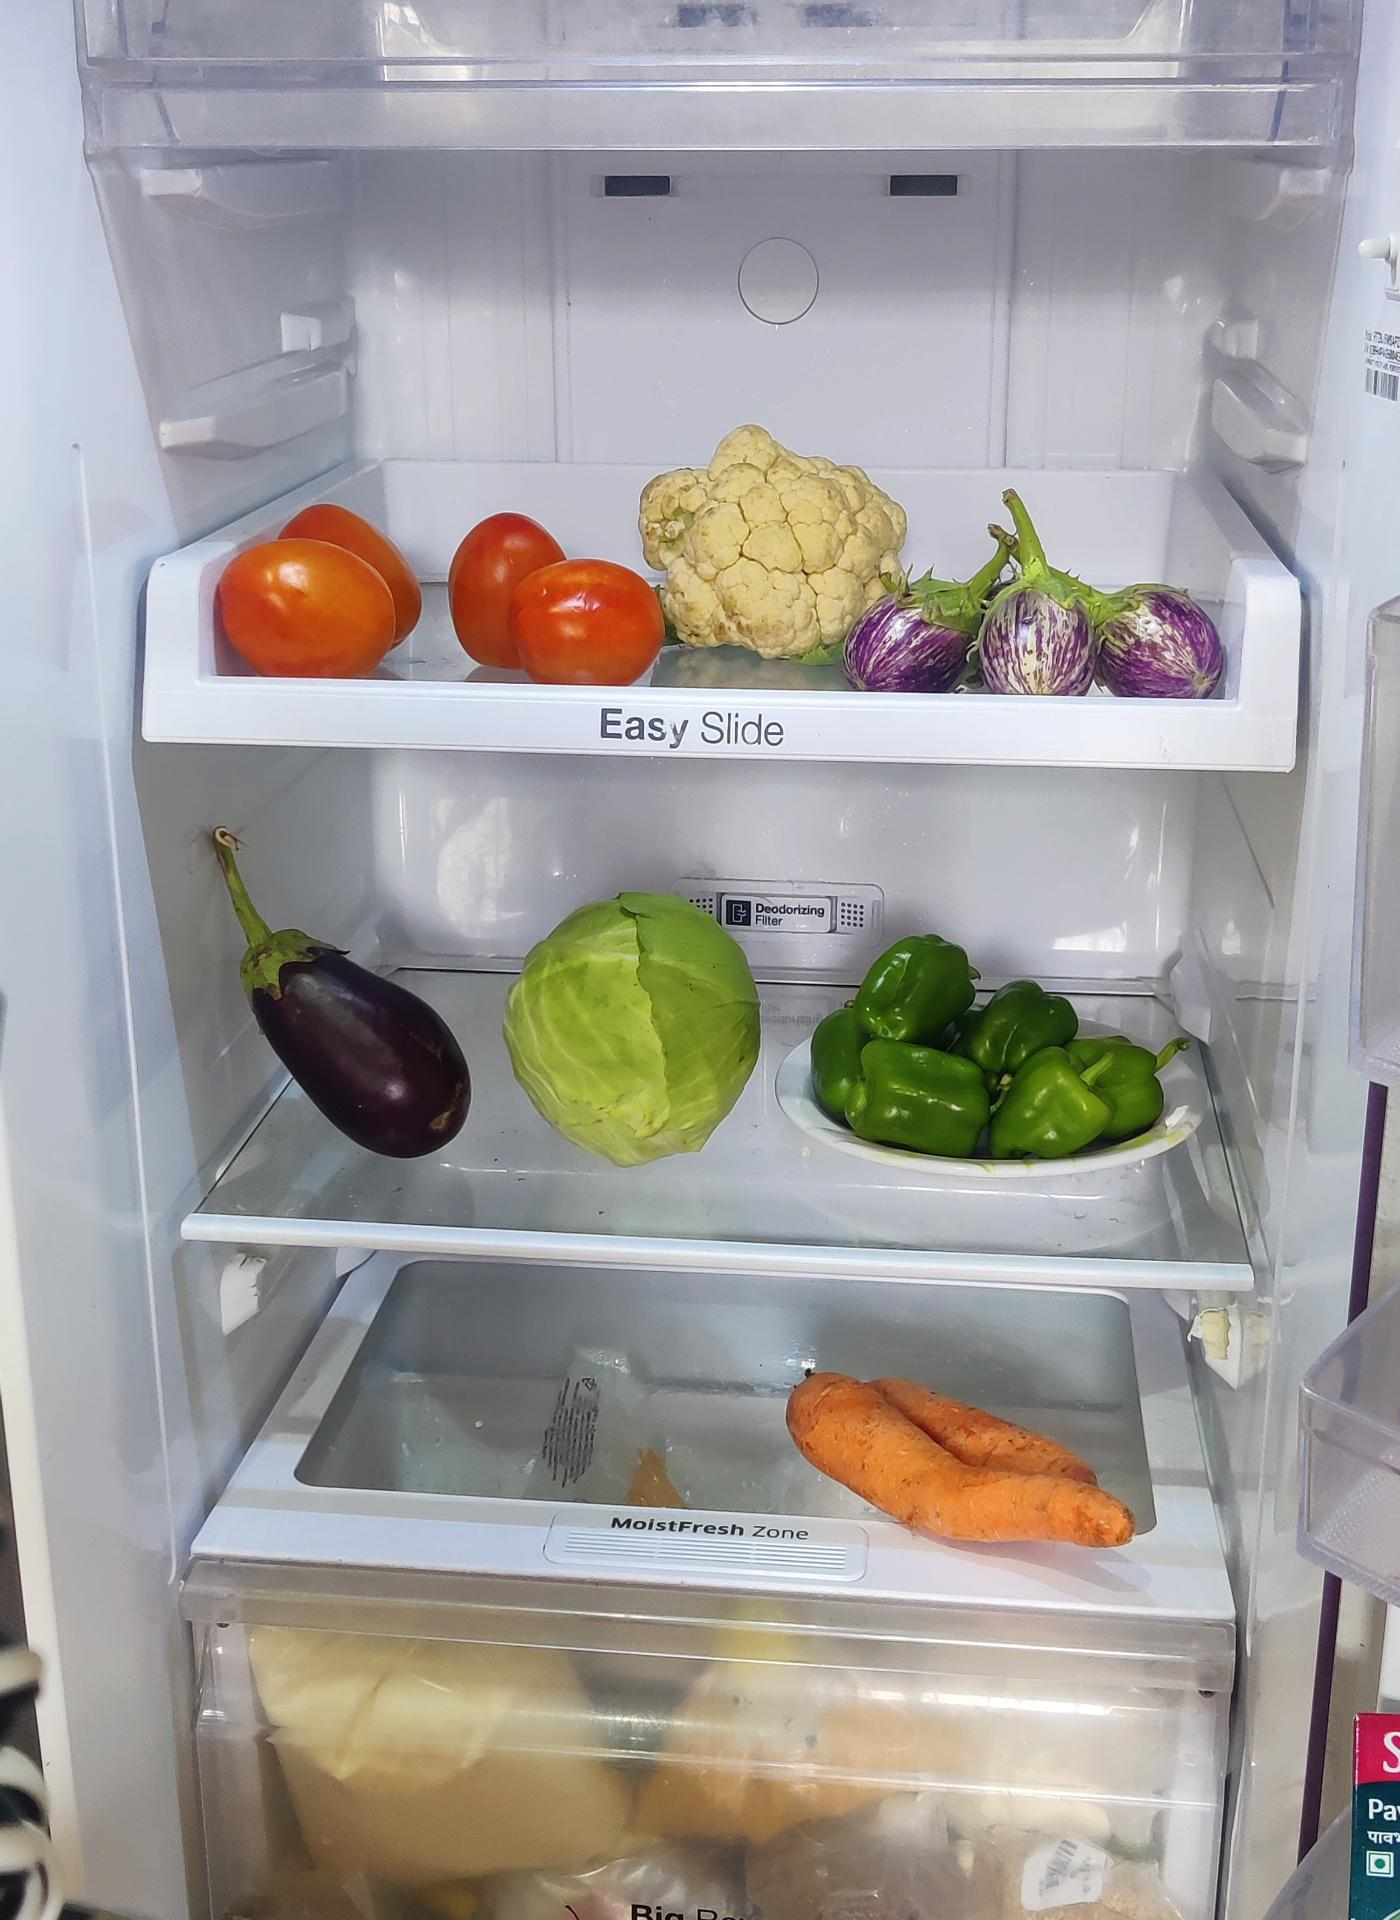brinjal: (225, 841, 465, 1154), (889, 520, 1232, 686)
cabbage: (505, 896, 763, 1164)
capsicum: (805, 927, 1185, 1157)
carrots: (783, 1368, 1142, 1555)
cauliflower: (641, 431, 909, 665)
tomato: (224, 514, 660, 690)
